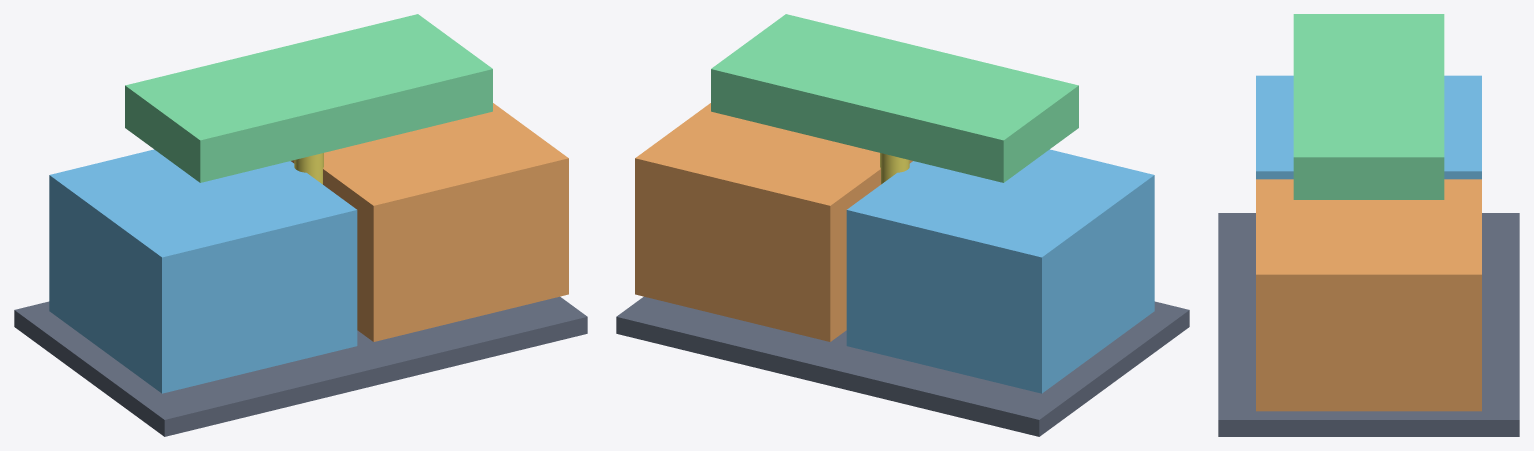
Rendered from object_oriented_programming.glb.
3 renders of one model, left to right at view 1: azimuth 30°, elevation 25°; view 2: azimuth 150°, elevation 25°; view 3: azimuth 270°, elevation 25°, orthographic.
Parts seen in each view (by area): view 1: BaseClassObject, DerivedInheritedClass, VTableMethodArray, HeapMemorySegment, VirtualPointerVPtr; view 2: BaseClassObject, DerivedInheritedClass, VTableMethodArray, HeapMemorySegment, VirtualPointerVPtr; view 3: DerivedInheritedClass, VTableMethodArray, HeapMemorySegment, BaseClassObject.
Part boxes in pixels (x1,y1,x2,y2): BaseClassObject: (49,149,357,393); DerivedInheritedClass: (291,103,568,341); VTableMethodArray: (125,14,492,182); HeapMemorySegment: (14,296,587,436); VirtualPointerVPtr: (294,153,323,184); BaseClassObject: (846,149,1154,393); DerivedInheritedClass: (635,103,912,341); VTableMethodArray: (711,14,1078,182); HeapMemorySegment: (616,296,1189,436); VirtualPointerVPtr: (880,153,909,184); DerivedInheritedClass: (1256,179,1481,411); VTableMethodArray: (1293,14,1444,199); HeapMemorySegment: (1218,213,1519,436); BaseClassObject: (1256,75,1481,179).
Size of the model in its own units: 2.6 by 1.48 by 1.6.
